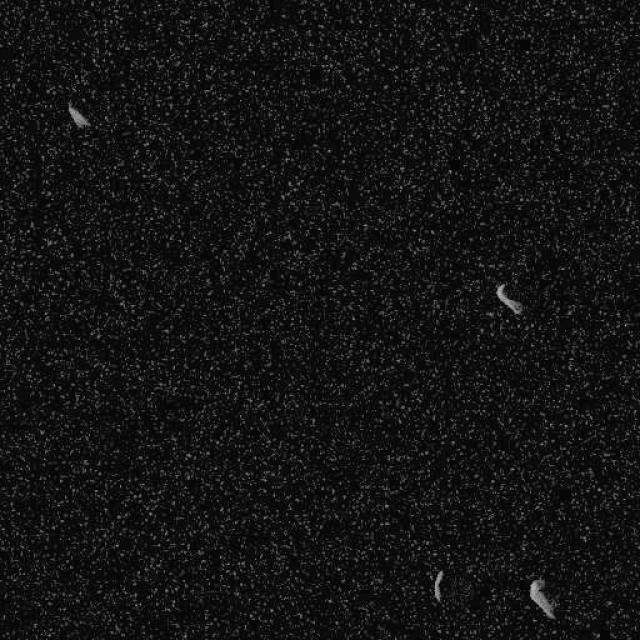D2: (528, 578, 556, 620), (494, 281, 524, 315), (66, 99, 90, 129), (431, 568, 444, 602)
